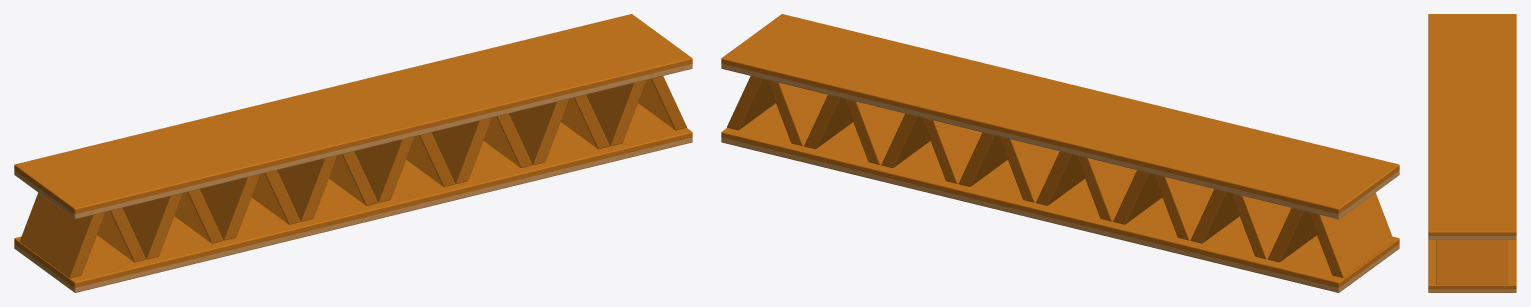
Rendered from Floor_OneOr.fbx.
3 views of the same model, side by side, from view 1: azimuth 30°, elevation 25°; view 2: azimuth 150°, elevation 25°; view 3: azimuth 270°, elevation 25° (orthographic). The views are drawn at different scales.
Visible parts, largest first — view 1: Cube; view 2: Cube; view 3: Cube.
Part boxes in pixels (x1,y1,x2,y2): Cube: (14,14,692,292); Cube: (721,14,1399,292); Cube: (1428,14,1516,292).
Bounding box in the file's own units: 1412 × 185 × 242.
